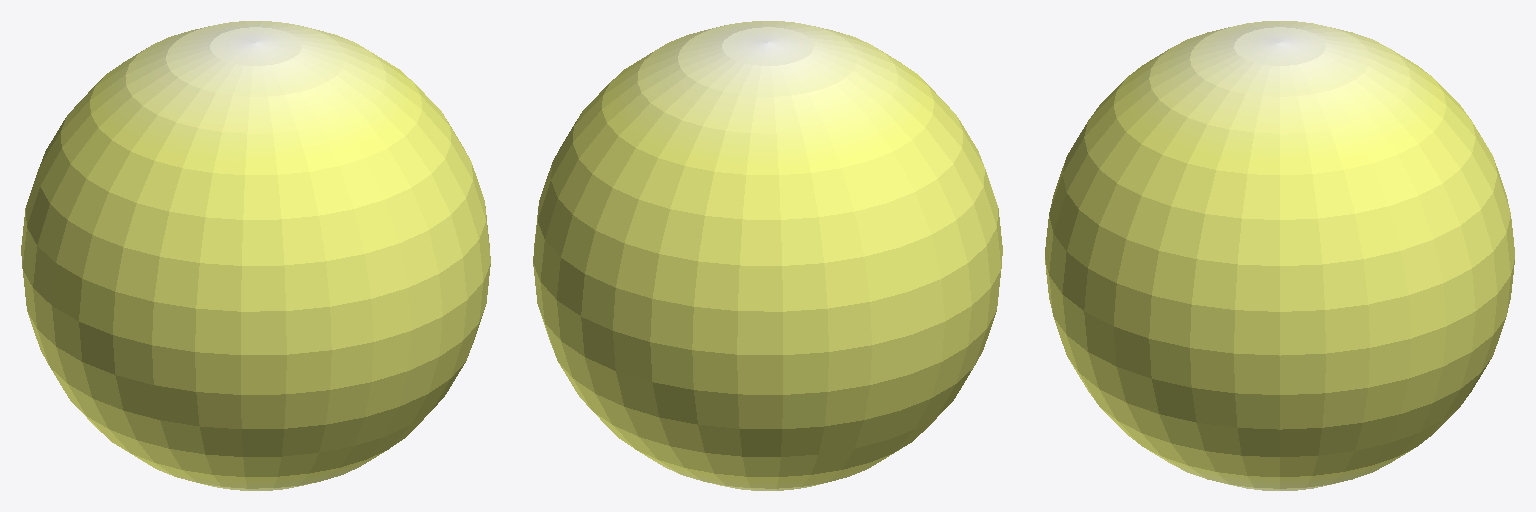
3 views of the same model, side by side, from view 1: azimuth 30°, elevation 25°; view 2: azimuth 150°, elevation 25°; view 3: azimuth 270°, elevation 25° (orthographic).
Parts seen in each view (by area): view 1: 球; view 2: 球; view 3: 球.
Part boxes in pixels (left/top/right/bottom): 球: left=21, top=21, right=490, bottom=490; 球: left=533, top=21, right=1002, bottom=490; 球: left=1045, top=21, right=1514, bottom=490.
Size of the model in its own units: 0.5 by 0.5 by 0.5.
1 materials, 1 textured.